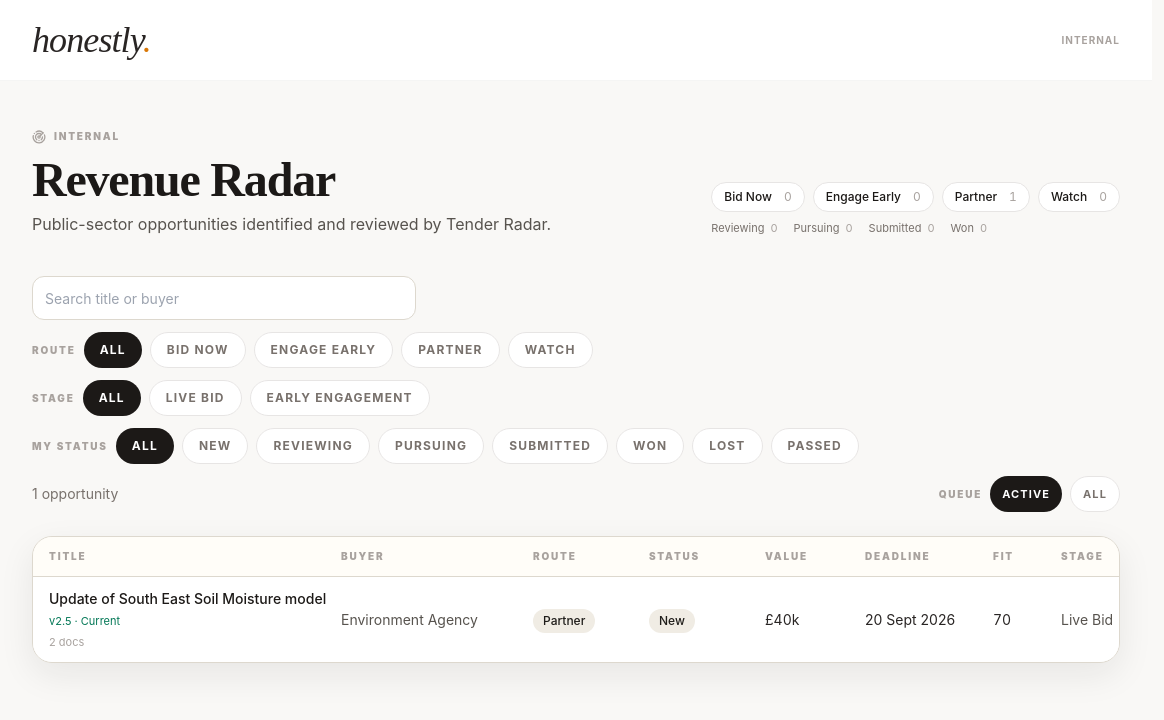
Test case: RevenueRadarScreen › shows document count and safe document links for direct_documents access
The image size is (1164, 720).
Expected: the text "2 docs" is shown, [49,634,84,648]
Step 1. Click the button "Update of South East Soil Moisture model" → click(592, 620), box [33,577,1152,662]
(page scrolled)
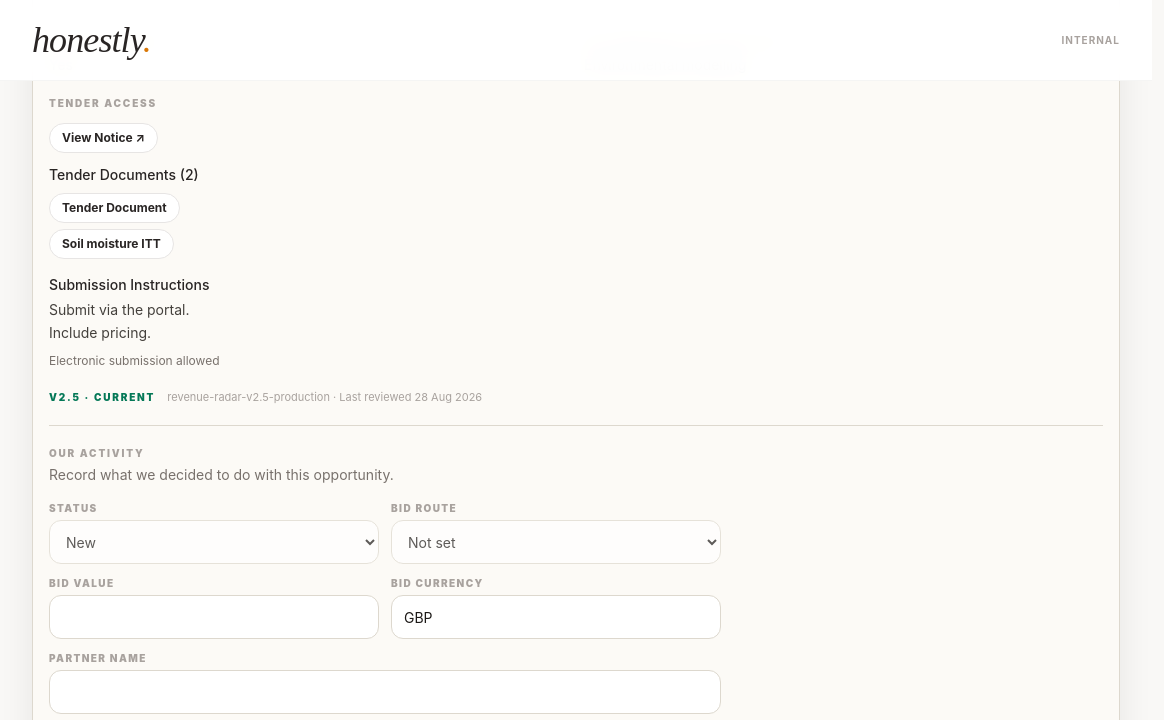
Expected: the text "Tender Documents (2)" is shown, [49,166,199,183]
Expected: the text "Submission Instructions" is shown, [49,276,210,293]
Expected: the text "Electronic submission allowed" is shown, [49,353,220,368]
